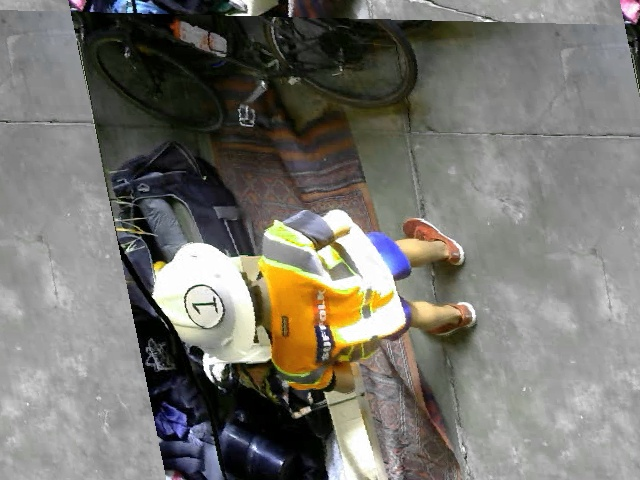one: (180, 284, 227, 328)
